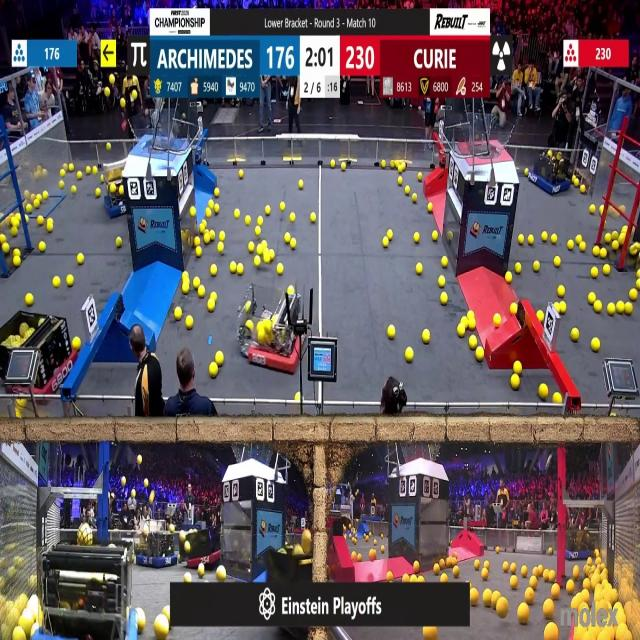ball_airborne: (424, 626, 436, 640), (108, 74, 115, 84), (133, 76, 139, 87), (148, 493, 154, 502), (105, 89, 110, 98), (120, 478, 125, 487), (120, 99, 124, 109), (132, 490, 137, 498), (133, 92, 138, 100), (144, 480, 148, 488), (138, 456, 142, 464)
ball_ground: (518, 604, 530, 624), (542, 600, 553, 619), (496, 599, 507, 617), (544, 625, 556, 640), (137, 616, 146, 634), (468, 590, 478, 606), (538, 384, 547, 400), (216, 566, 226, 580), (525, 589, 534, 604), (12, 628, 23, 640), (512, 376, 521, 390), (514, 360, 523, 374), (552, 586, 561, 600), (72, 338, 80, 352), (566, 582, 574, 596), (484, 591, 492, 605), (592, 339, 600, 352), (210, 363, 218, 376), (422, 331, 430, 344), (198, 564, 206, 577), (511, 575, 519, 588), (407, 348, 414, 362), (216, 352, 223, 366), (458, 324, 466, 336), (594, 302, 602, 314), (174, 308, 182, 320), (12, 255, 20, 267), (2, 243, 10, 255), (468, 338, 476, 350), (237, 265, 245, 277), (549, 570, 557, 582), (185, 316, 192, 329), (571, 328, 578, 341), (388, 325, 395, 338), (475, 348, 482, 361), (602, 266, 610, 277), (554, 392, 562, 403), (630, 289, 638, 300), (276, 265, 284, 276), (482, 568, 490, 579), (452, 566, 460, 577), (27, 292, 34, 304), (511, 304, 518, 316), (626, 304, 633, 316), (607, 304, 614, 316), (199, 286, 206, 298), (45, 219, 52, 231), (530, 575, 537, 587), (572, 566, 579, 578), (386, 570, 394, 580), (467, 319, 475, 329), (570, 599, 578, 609), (542, 569, 548, 582), (442, 292, 449, 303), (555, 256, 562, 267), (505, 273, 512, 284), (619, 303, 626, 314), (584, 577, 591, 588), (516, 264, 522, 276), (592, 268, 598, 280), (440, 276, 446, 288), (494, 314, 500, 326), (248, 242, 254, 254), (204, 234, 210, 246), (208, 302, 215, 312), (558, 286, 565, 296), (115, 238, 122, 248), (184, 572, 191, 582), (589, 292, 596, 302), (193, 237, 200, 247), (265, 253, 272, 263), (210, 291, 217, 301), (244, 303, 251, 313), (611, 241, 618, 251), (164, 606, 171, 616), (211, 266, 217, 277), (443, 256, 449, 267), (560, 303, 566, 314), (39, 242, 45, 253), (55, 277, 61, 288), (533, 262, 539, 273), (414, 233, 420, 244), (254, 256, 260, 267), (217, 243, 223, 254), (522, 566, 528, 577), (414, 562, 420, 573), (442, 573, 449, 582), (37, 216, 44, 225), (90, 167, 97, 176), (34, 200, 41, 209), (68, 276, 74, 286), (290, 239, 296, 249), (568, 241, 574, 251), (192, 278, 198, 288), (182, 284, 188, 294), (537, 312, 543, 322), (552, 235, 558, 245), (310, 212, 316, 222), (77, 253, 83, 263), (540, 233, 546, 243), (600, 248, 606, 258), (231, 264, 237, 274), (284, 234, 290, 244), (189, 207, 195, 217), (200, 222, 206, 232), (518, 236, 524, 246), (590, 205, 596, 215), (528, 236, 534, 246), (369, 552, 375, 562), (604, 234, 610, 244), (11, 228, 17, 238), (502, 562, 508, 572), (433, 564, 439, 574), (210, 232, 216, 242), (511, 563, 517, 573), (402, 574, 409, 582), (244, 216, 251, 224), (418, 574, 425, 582), (356, 555, 364, 562), (12, 249, 20, 256), (417, 265, 422, 276), (431, 233, 437, 242), (218, 233, 224, 242), (579, 243, 585, 252), (266, 207, 272, 216), (594, 247, 600, 256), (403, 185, 409, 194), (214, 205, 220, 214), (214, 187, 220, 196), (255, 246, 261, 255), (206, 209, 212, 218), (27, 205, 33, 214), (448, 233, 454, 242), (236, 209, 241, 219), (388, 231, 393, 241), (195, 247, 200, 257), (474, 560, 479, 570), (288, 286, 294, 294), (467, 312, 473, 320), (297, 180, 303, 188), (96, 188, 102, 196), (85, 166, 91, 174), (396, 177, 402, 185), (412, 574, 418, 582), (381, 162, 387, 170), (399, 164, 405, 172), (264, 241, 270, 249), (418, 173, 423, 182), (428, 204, 433, 213), (257, 216, 262, 225), (383, 239, 388, 248), (290, 213, 295, 222), (413, 192, 418, 201), (280, 203, 285, 212), (579, 184, 584, 193), (255, 226, 260, 235), (43, 190, 48, 199), (0, 235, 5, 244), (575, 236, 581, 243), (182, 272, 188, 279), (294, 392, 299, 400), (60, 181, 65, 189), (342, 162, 347, 170), (61, 170, 66, 178), (76, 172, 81, 180), (209, 201, 214, 209), (240, 170, 244, 179), (352, 553, 356, 562), (330, 161, 334, 170), (485, 561, 490, 568), (72, 185, 76, 193), (70, 163, 74, 171), (636, 280, 640, 288), (600, 206, 604, 214), (381, 545, 386, 551), (524, 169, 528, 176), (496, 545, 500, 552), (26, 215, 30, 222), (15, 413, 19, 420), (636, 272, 640, 279), (371, 539, 376, 544), (550, 550, 554, 556), (101, 176, 105, 182), (352, 538, 356, 543)
goal: (460, 117, 518, 158), (128, 116, 186, 152)
robot_blue: (529, 149, 571, 196), (134, 528, 180, 569), (564, 528, 593, 560), (105, 183, 127, 220)
robot_red: (38, 550, 131, 640), (0, 310, 64, 393), (240, 302, 306, 374), (185, 528, 222, 568)
